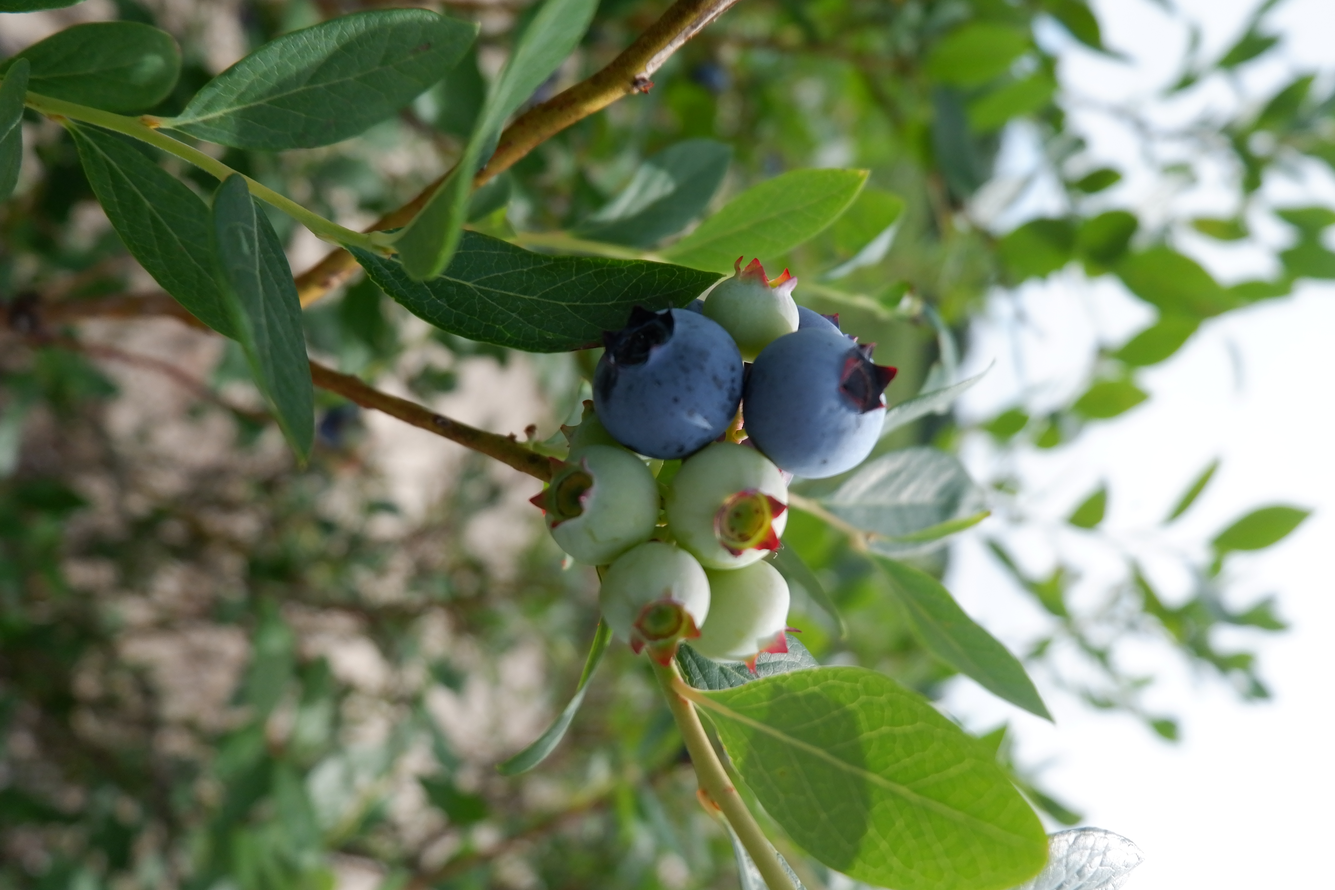Immature: (670, 445, 787, 567), (539, 447, 657, 566), (603, 543, 709, 658), (693, 562, 788, 659), (705, 260, 799, 356), (563, 402, 628, 454)
Mature: (744, 325, 892, 474), (595, 307, 739, 457), (797, 302, 845, 334)
